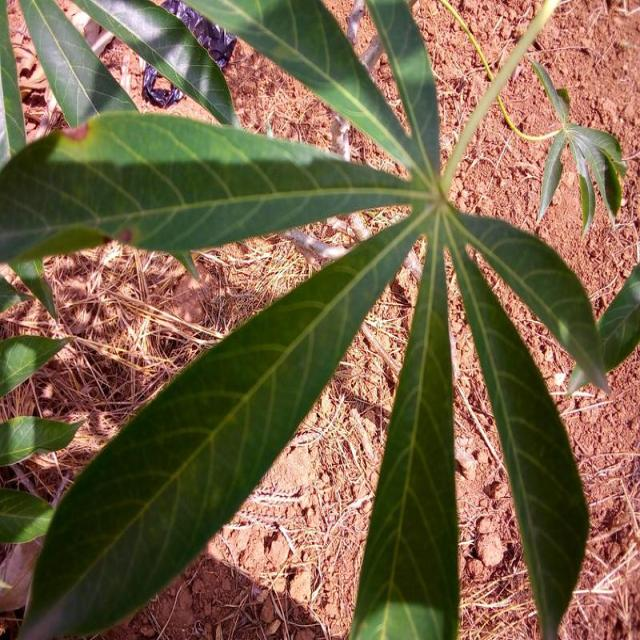cassava leaf: (2, 0, 631, 638), (16, 208, 430, 638), (0, 109, 424, 274), (445, 209, 591, 638)
